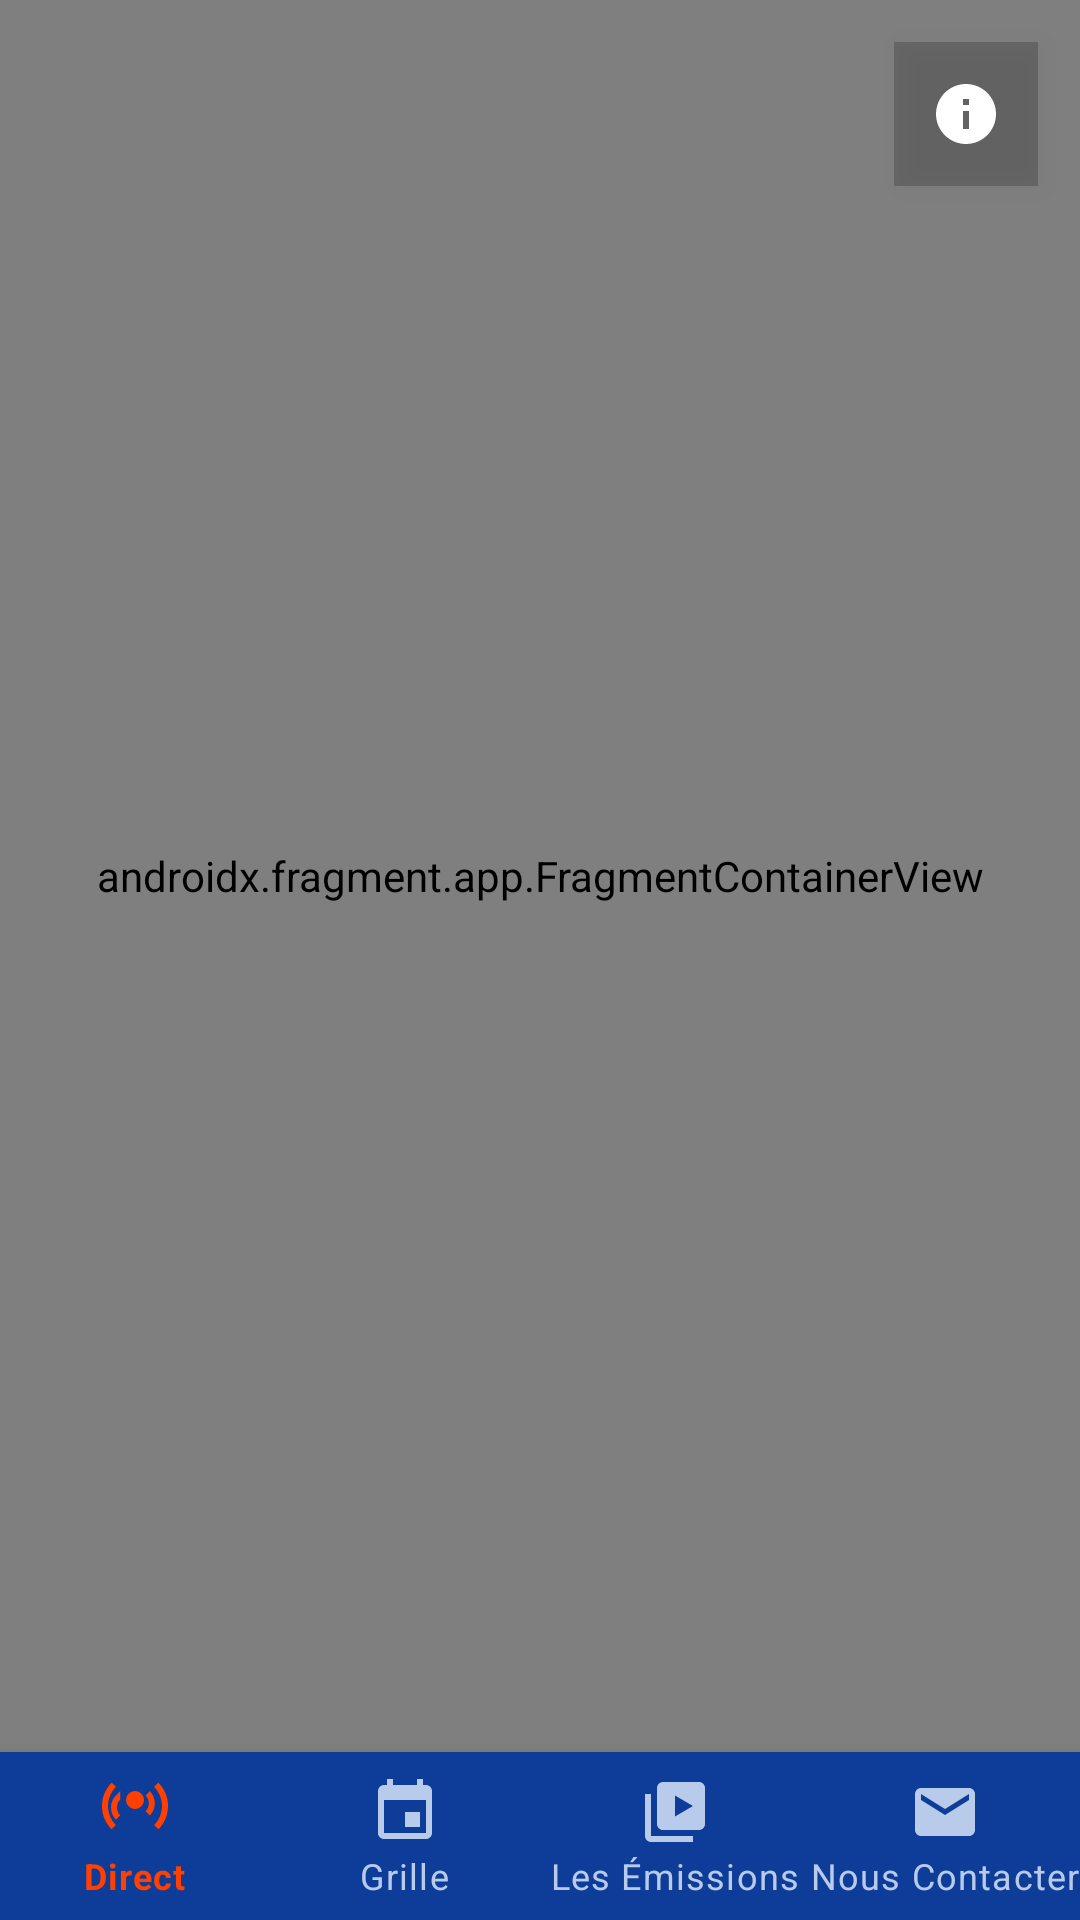

Icons on this 1080 x 1920 Android screen, each with the point to tap as (x,y):
À propos de l'application: (966,114)
